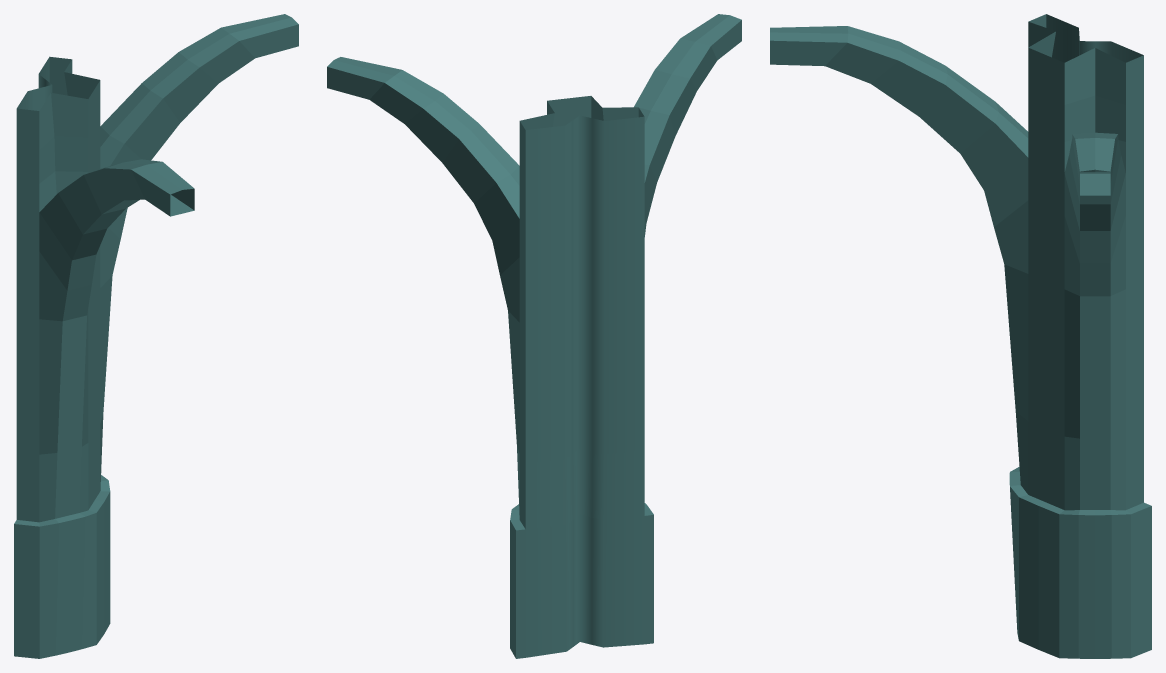
The model's file is Arch_OutsideCorner.fbx.
The picture shows the model from 3 angles, left to right: view 1: azimuth 30°, elevation 25°; view 2: azimuth 150°, elevation 25°; view 3: azimuth 270°, elevation 25°; orthographic projection. The views are drawn at different scales.
Parts seen in each view (by area): view 1: Arch_OutsideCorner; view 2: Arch_OutsideCorner; view 3: Arch_OutsideCorner.
Part boxes in pixels (<box>): Arch_OutsideCorner: <box>14,14,298,658</box>; Arch_OutsideCorner: <box>327,14,741,658</box>; Arch_OutsideCorner: <box>770,14,1151,658</box>.
Size of the model in its own units: 235 by 404 by 235.
